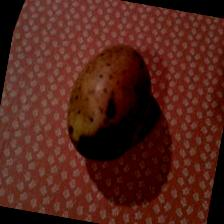Mango Overripe: (56, 31, 158, 166)
